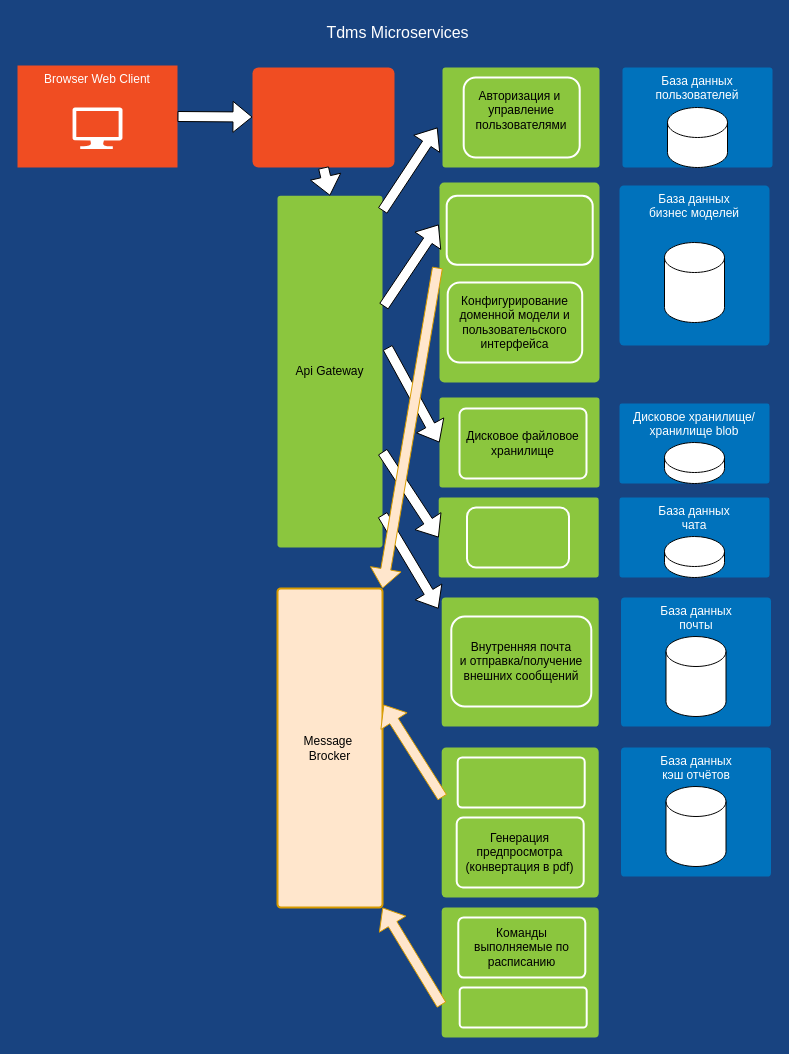
This 789x1054 diagram has some shape labels left out. Each missing label, with the centre of its shape:
Computer: (x=97, y=127)
Web Single Page Application (React): (x=323, y=117)
Внутренний чат: (x=518, y=537)
Генерация отчетов: (x=520, y=782)
Долгоиграющие команды: (x=522, y=1007)
Настраиваемая доменная модель и собственный ORM: (x=519, y=229)
